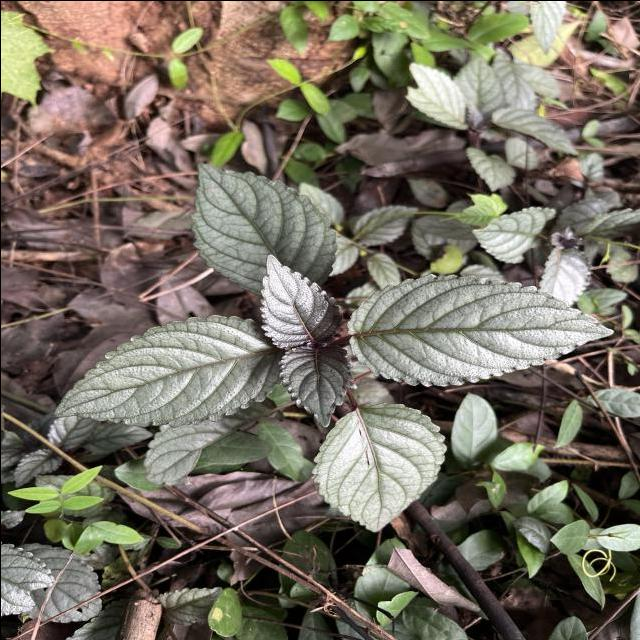Hemigraphis colorata: (344, 270, 618, 388), (44, 312, 284, 428), (186, 156, 340, 302), (309, 398, 449, 534), (255, 249, 346, 350), (276, 342, 355, 428)
